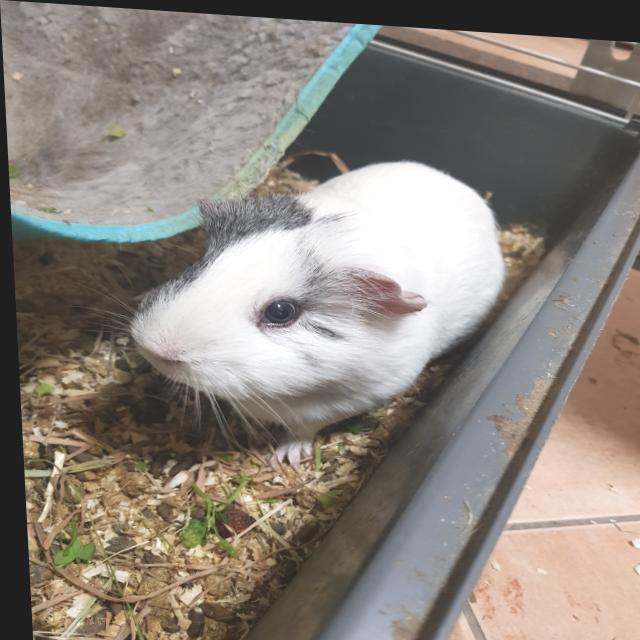guinea pig: (113, 137, 513, 483)
